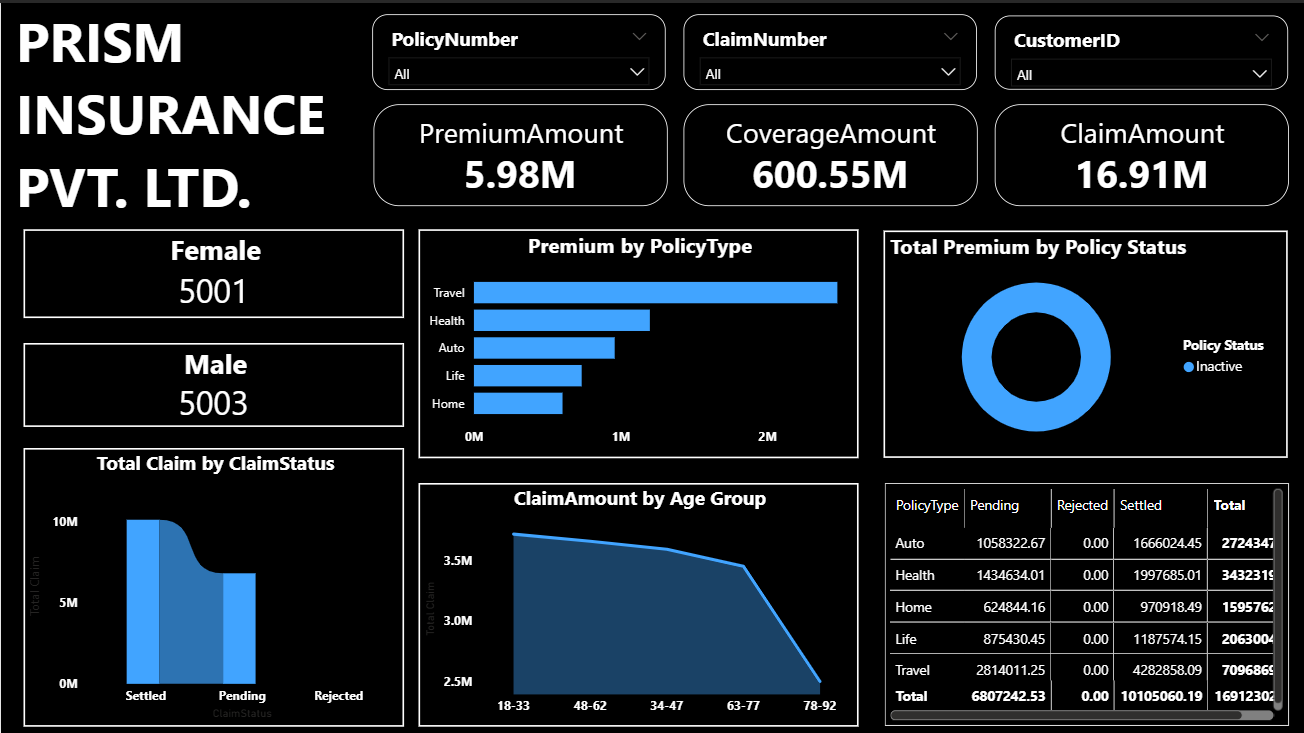

The dashboard page shown, as its layout file describes it:
{"tool":"powerbi","page":{"name":"Page 1","canvas":[1280,720],"ordinal":0},"visuals":[{"type":"textbox","title":"PRISM INSURANCE PVT. LTD.","box":[10.1,0,317.4,223.2],"z":0},{"type":"slicer","fields":{"Values":["InsuranceData.CustomerID"]},"box":[975.6,12.3,288.2,72.7],"z":1000},{"type":"slicer","fields":{"Values":["InsuranceData.PolicyNumber"]},"box":[365,11,288.2,74.1],"z":2000},{"type":"slicer","fields":{"Values":["InsuranceData.ClaimNumber"]},"box":[669.6,11,288.2,74.1],"z":3000},{"type":"card","title":"PremiumAmount","fields":{"Values":["Sum(InsuranceData.PremiumAmount)"]},"box":[365.2,100,288.4,100],"z":4000},{"type":"card","title":"CoverageAmount","fields":{"Values":["Sum(InsuranceData.CoverageAmount)"]},"box":[669.6,100,288.4,100],"z":5000},{"type":"card","title":"ClaimAmount","fields":{"Values":["Sum(InsuranceData.ClaimAmount)"]},"box":[975.4,100,288.4,100],"z":6000},{"type":"clusteredBarChart","title":"Premium by PolicyType","fields":{"Category":["InsuranceData.PolicyType"],"Y":["Measures_.Total Premium"]},"box":[410.1,221.7,431.9,224.6],"z":7000},{"type":"donutChart","fields":{"Y":["Measures_.Total Premium"],"Category":["InsuranceData.Policy Status"]},"box":[866.7,223.2,397.1,223.2],"z":8000},{"type":"areaChart","title":"ClaimAmount by Age Group","fields":{"Category":["InsuranceData.Age Group"],"Y":["Measures_.Total Claim"]},"box":[410.1,471,431.9,239.1],"z":9000},{"type":"pivotTable","fields":{"Rows":["InsuranceData.PolicyType"],"Columns":["InsuranceData.ClaimStatus"],"Values":["Sum(InsuranceData.ClaimAmount)"]},"box":[867.2,470.7,396.6,238.8],"z":10000},{"type":"ribbonChart","fields":{"Category":["InsuranceData.ClaimStatus"],"Y":["Measures_.Total Claim"]},"box":[21.7,436.2,373.9,273.9],"z":11000},{"type":"card","title":"Female","fields":{"Values":["Measures_.Female"]},"box":[21.7,221.7,373.9,87],"z":12000},{"type":"card","title":"Male","fields":{"Values":["Measures_.Male"]},"box":[21.7,333.3,373.9,82.6],"z":13000}]}

Visuals, with their boxes in screenshot pixels (x1, y1, x2, y2), scaled from the page's 1280x720 canvas onto the 1304x733 screenshot:
"PRISM INSURANCE PVT. LTD." textbox: bbox=[10, 0, 334, 227]
slicer - InsuranceData.CustomerID: bbox=[994, 13, 1287, 87]
slicer - InsuranceData.PolicyNumber: bbox=[372, 11, 665, 87]
slicer - InsuranceData.ClaimNumber: bbox=[682, 11, 976, 87]
"PremiumAmount" card: bbox=[372, 102, 666, 204]
"CoverageAmount" card: bbox=[682, 102, 976, 204]
"ClaimAmount" card: bbox=[994, 102, 1287, 204]
"Premium by PolicyType" clusteredBarChart: bbox=[418, 226, 858, 454]
donutChart - Measures_.Total Premium x InsuranceData.Policy Status: bbox=[883, 227, 1287, 454]
"ClaimAmount by Age Group" areaChart: bbox=[418, 480, 858, 723]
pivotTable - InsuranceData.PolicyType x InsuranceData.ClaimStatus: bbox=[883, 479, 1287, 722]
ribbonChart - InsuranceData.ClaimStatus x Measures_.Total Claim: bbox=[22, 444, 403, 723]
"Female" card: bbox=[22, 226, 403, 314]
"Male" card: bbox=[22, 339, 403, 423]
